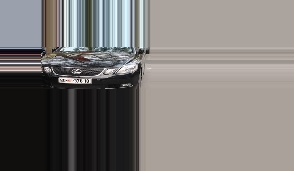plate: (57, 76, 94, 84)
